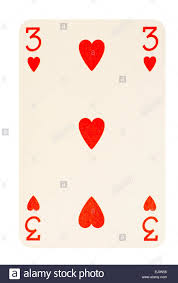three of hearts: (19, 22, 165, 247)
